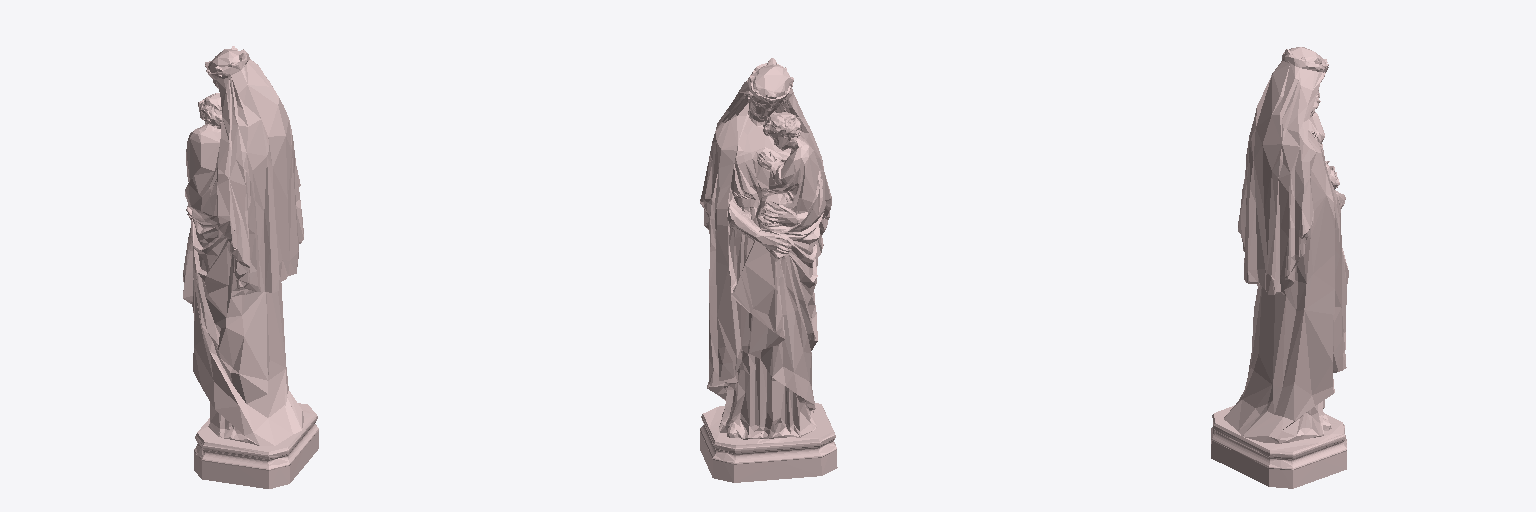
Rendered from statue.obj.
The picture shows the model from 3 angles: view 1: azimuth 30°, elevation 25°; view 2: azimuth 150°, elevation 25°; view 3: azimuth 270°, elevation 25°; orthographic projection.
Visible parts, largest first — view 1: ITVIRGL; view 2: ITVIRGL; view 3: ITVIRGL.
Part boxes in pixels (bbox=[...]): ITVIRGL: bbox=[183, 46, 318, 488]; ITVIRGL: bbox=[700, 58, 837, 482]; ITVIRGL: bbox=[1211, 47, 1348, 488].
Bounding box in the file's own units: 0.511 × 1.6 × 0.4972.